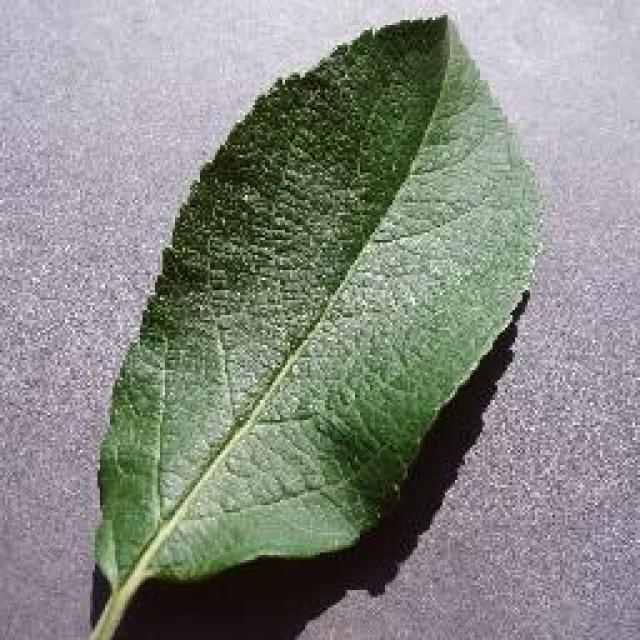apple healthy: (75, 10, 547, 638)
